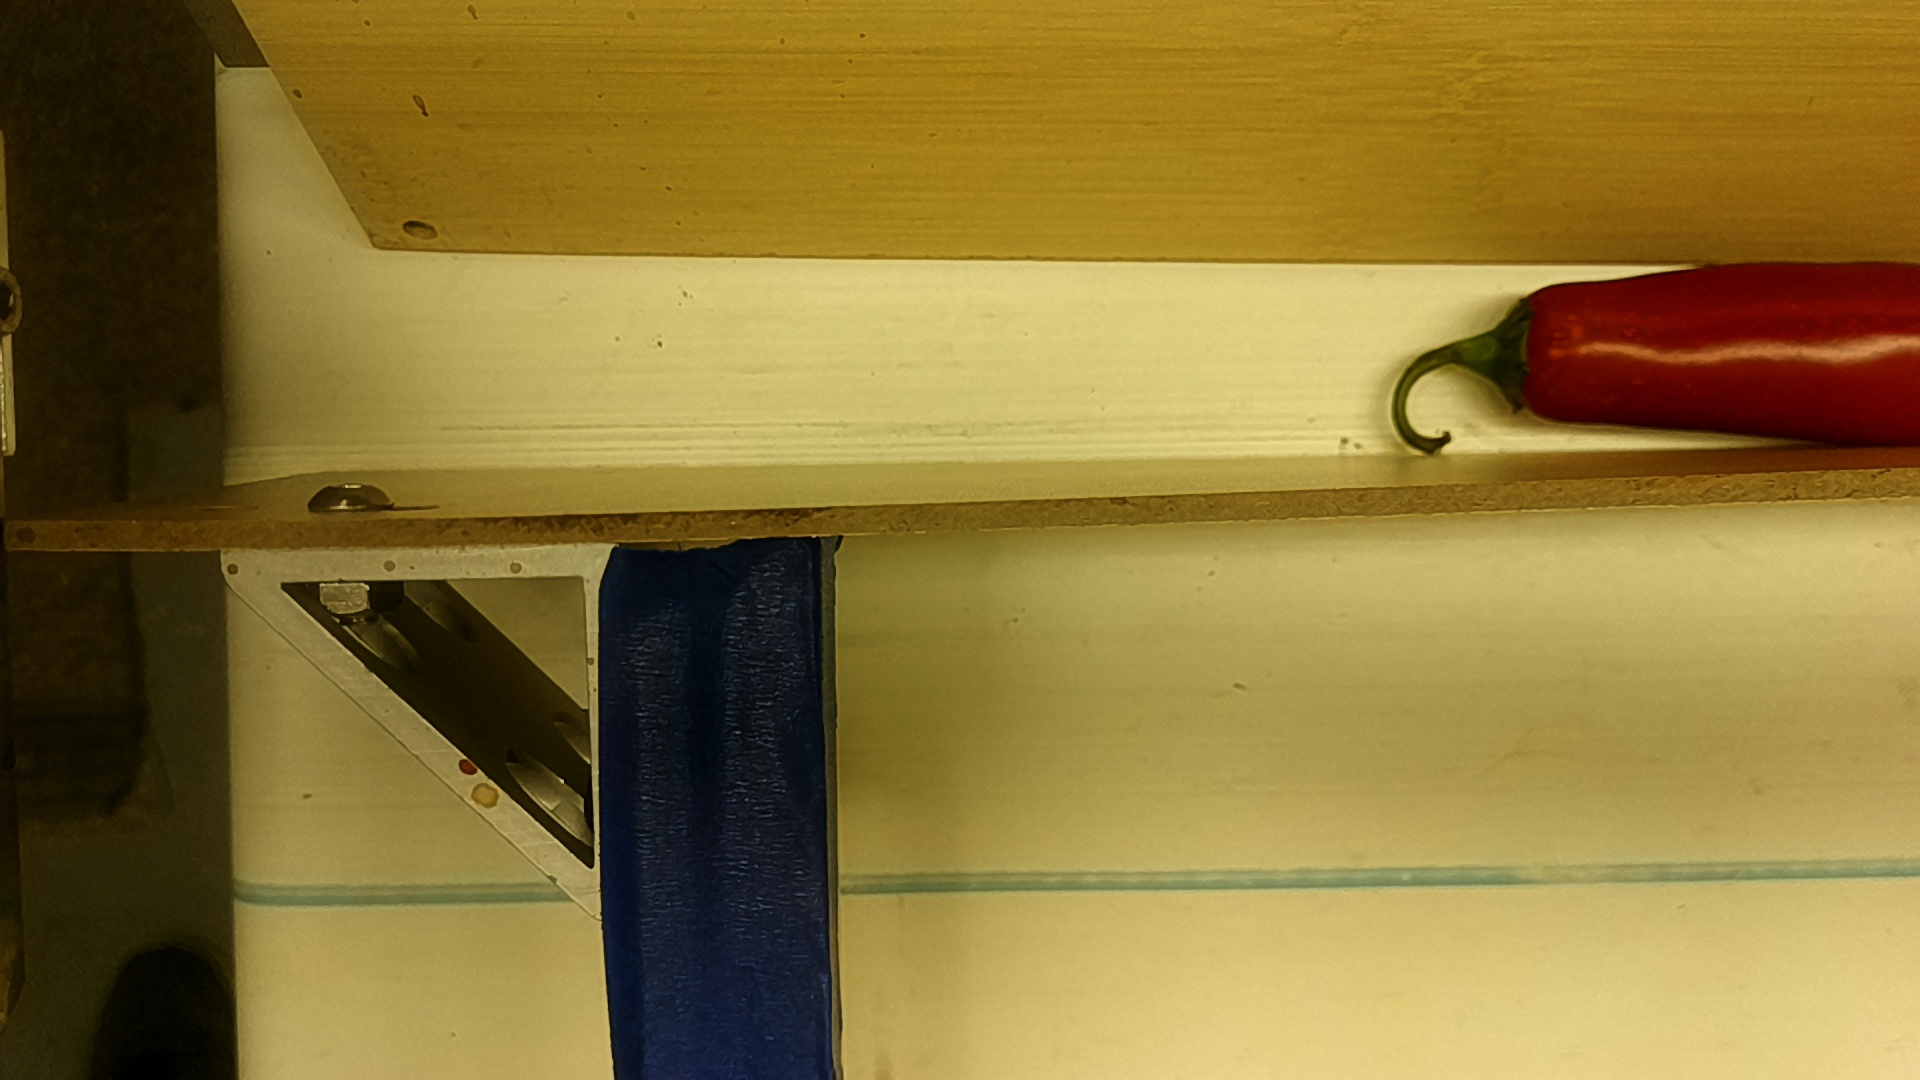Cut Point: (1486, 274, 1567, 434)
